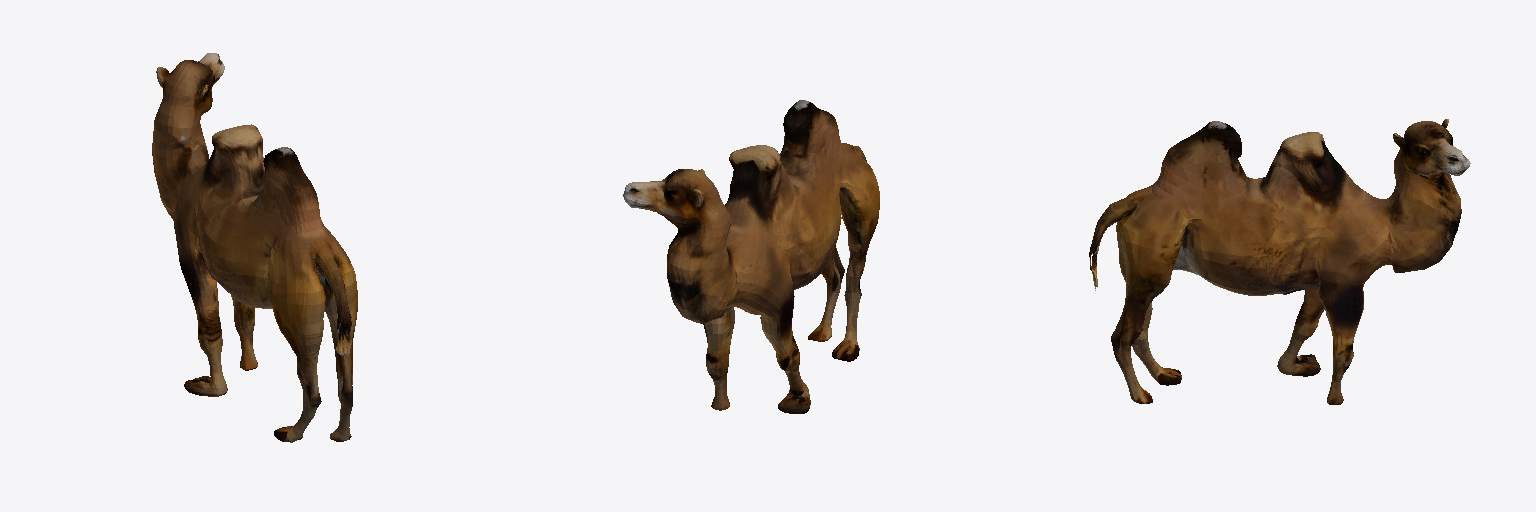
The picture shows the model from 3 angles: view 1: azimuth 30°, elevation 25°; view 2: azimuth 150°, elevation 25°; view 3: azimuth 270°, elevation 25°; orthographic projection.
Visible parts, largest first — view 1: tripo_node_f5e35d79-3cde-4afb-b061-c75830ee1e2e; view 2: tripo_node_f5e35d79-3cde-4afb-b061-c75830ee1e2e; view 3: tripo_node_f5e35d79-3cde-4afb-b061-c75830ee1e2e.
Part boxes in pixels (x1,y1,x2,y2): tripo_node_f5e35d79-3cde-4afb-b061-c75830ee1e2e: (152,53,357,442); tripo_node_f5e35d79-3cde-4afb-b061-c75830ee1e2e: (623,100,879,413); tripo_node_f5e35d79-3cde-4afb-b061-c75830ee1e2e: (1089,119,1470,404).
Size of the model in its own units: 0.3362 by 0.7907 by 0.9988.
1 materials, 1 textured.